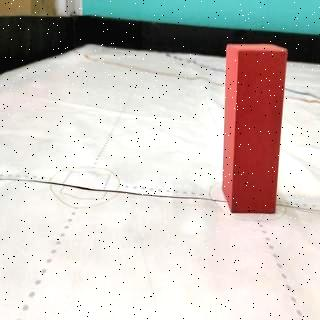redbox: (222, 42, 288, 214)
